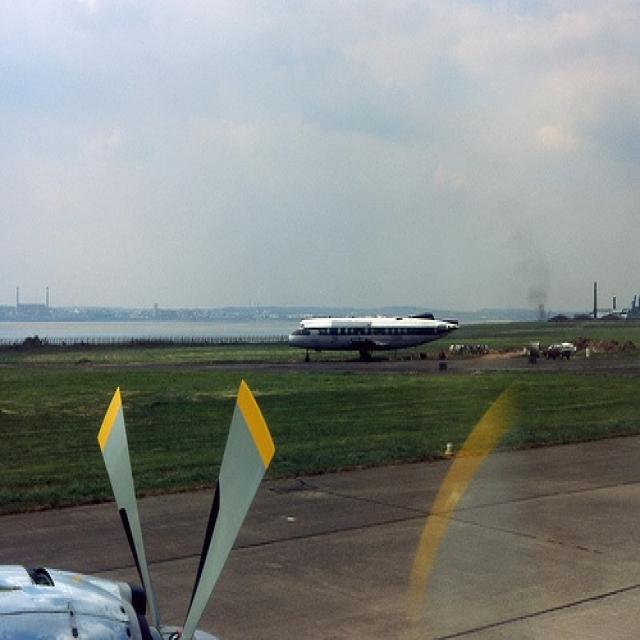aeroplane: (287, 314, 463, 360)
